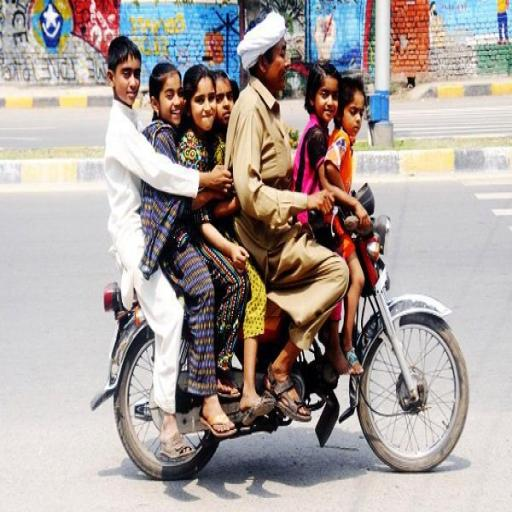overloading: (90, 183, 470, 481)
